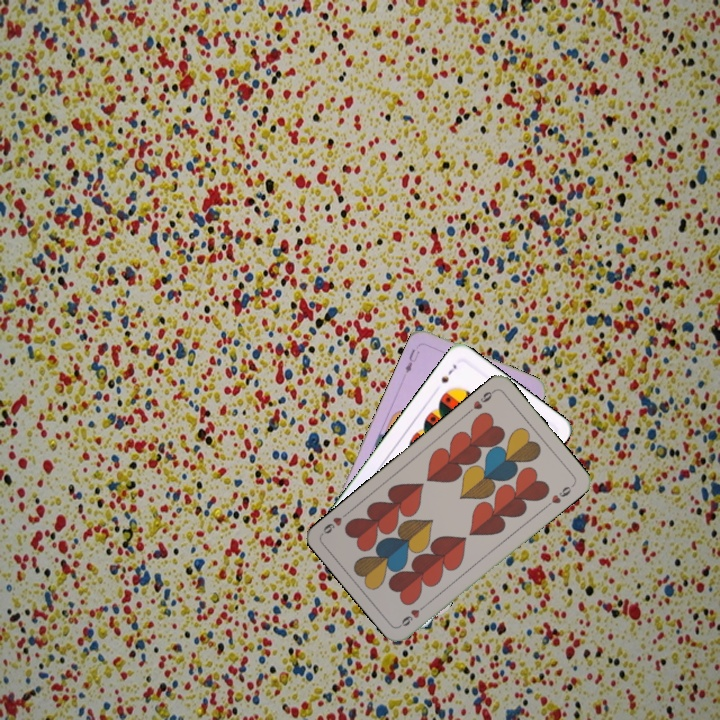EU: (401, 345, 422, 376)
H9: (464, 386, 498, 416), (396, 599, 430, 629)
S7: (437, 360, 459, 385)
